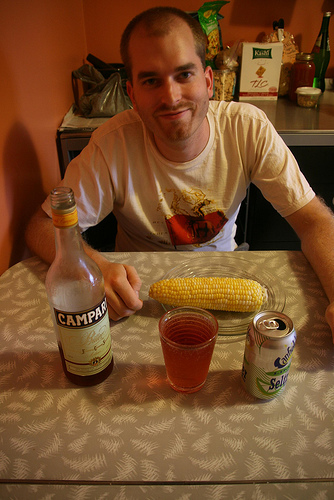corn: (148, 267, 272, 313)
